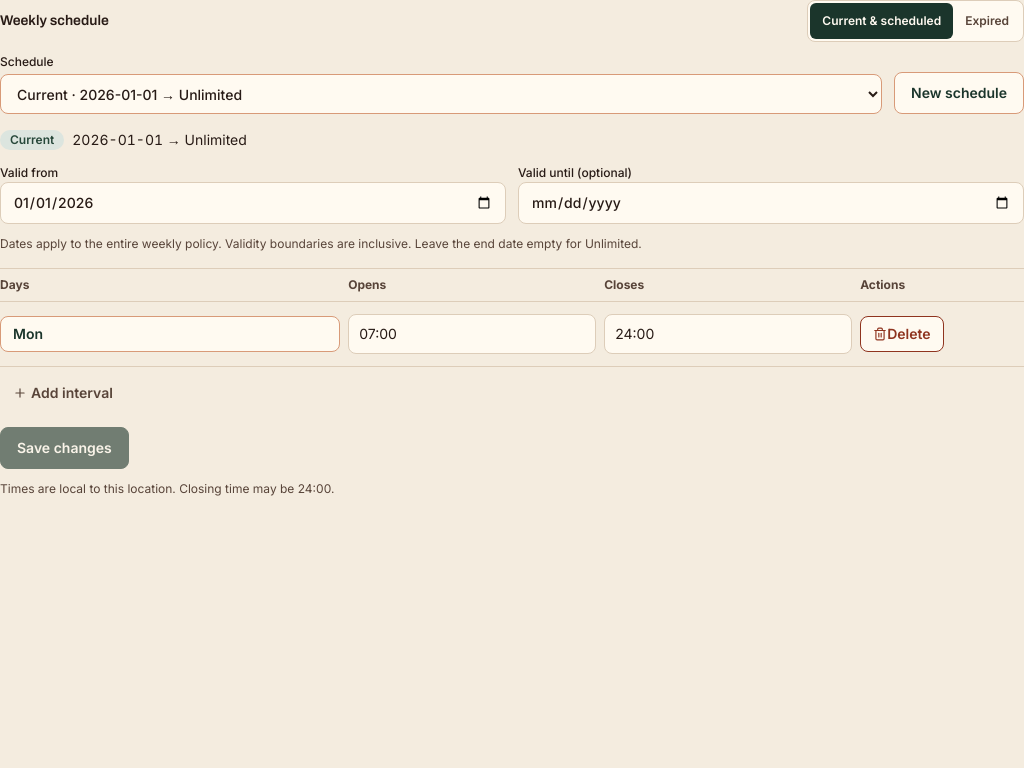
Test: protects dirty drafts when selecting scheduled or expired policies; expired hours are read-only
This screenshot has width=1024, height=768.
Expected: the dropdown labelled "Schedule" shows "Current · 2026-01-01 → Unlimited", [0, 74, 882, 114]
Replace the text in the 1st dropdown named "Opening time" with "08:00": (472, 334) [348, 314, 596, 354]
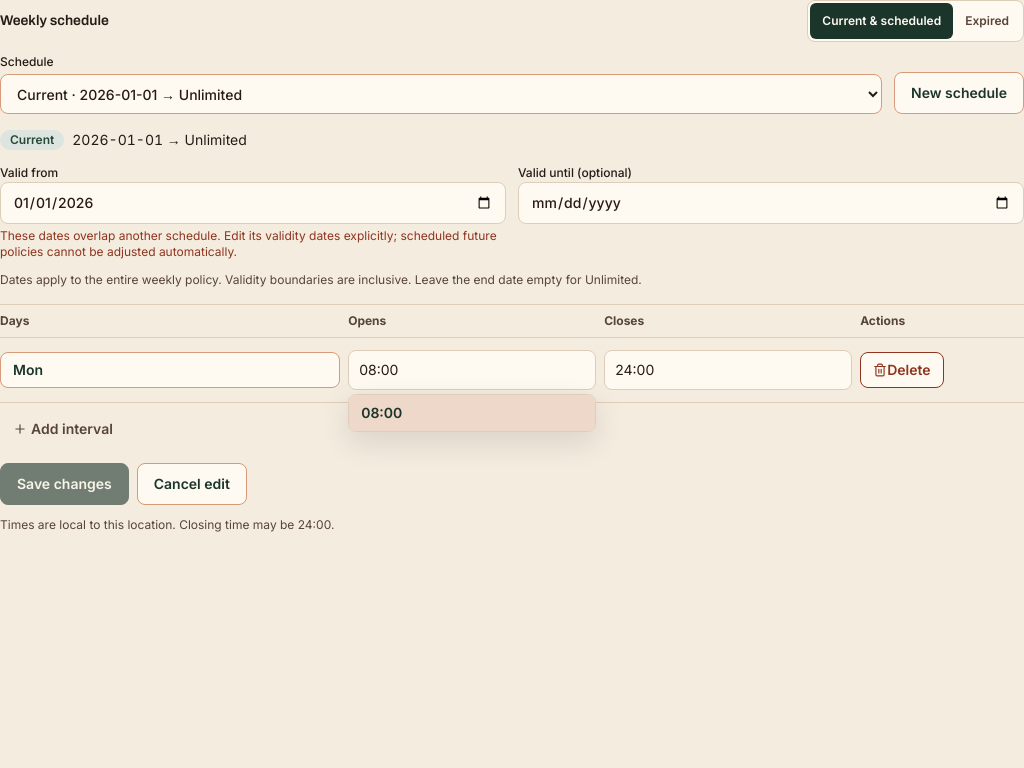
Select "Scheduled · 2027-01-01 → Unlimited" in the dropdown labelled "Schedule": (441, 94) [0, 74, 882, 114]
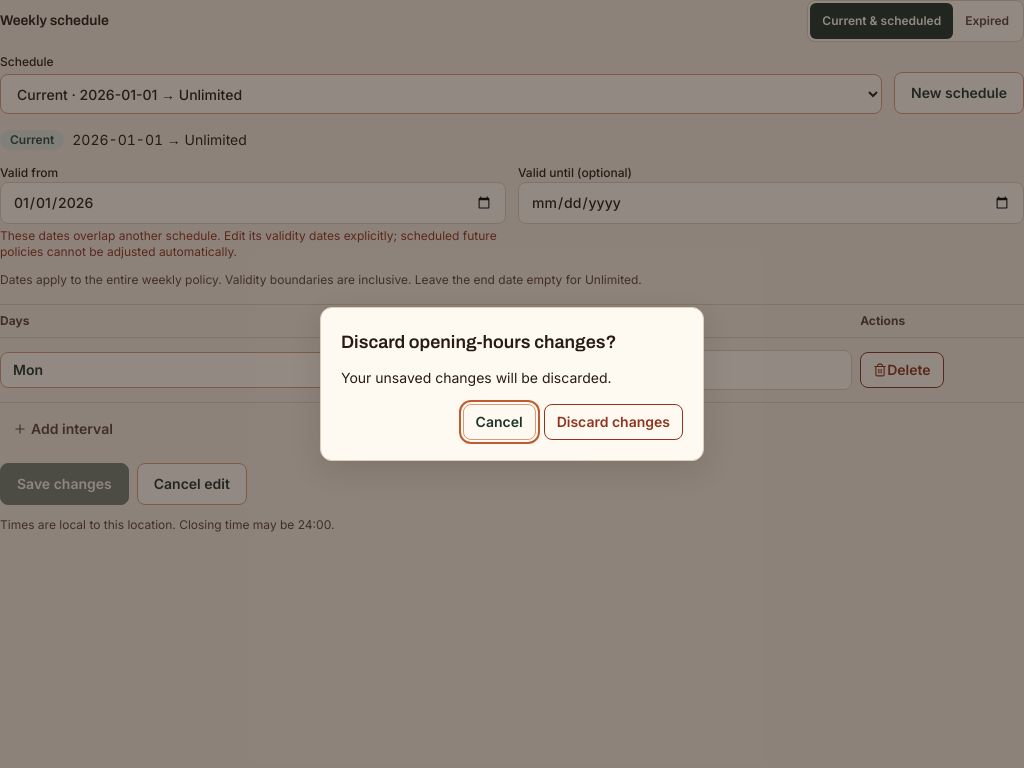
Result: the dialog is shown at [320, 307, 704, 461]
Click the button "Discard changes": (613, 422) [544, 404, 683, 440]
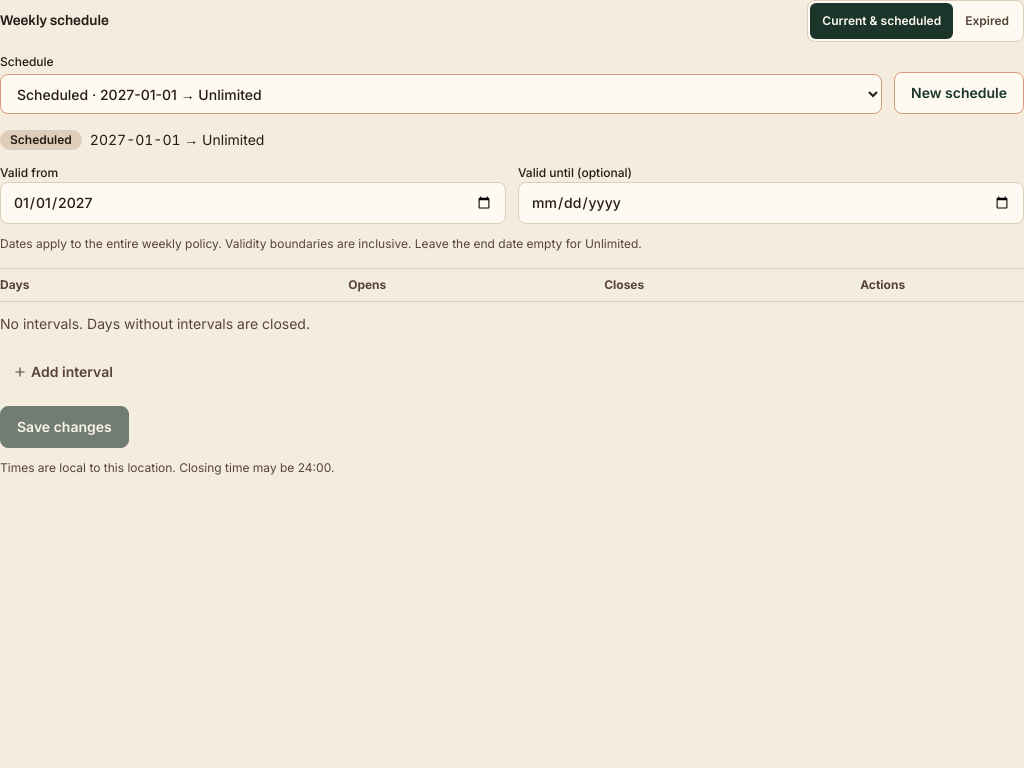
Result: the date field labelled "Valid from" holds "2027-01-01" at [0, 182, 506, 224]
In the date field labelled "Valid until (optional)": (771, 203) [518, 182, 1023, 224], type "2027-12-31"
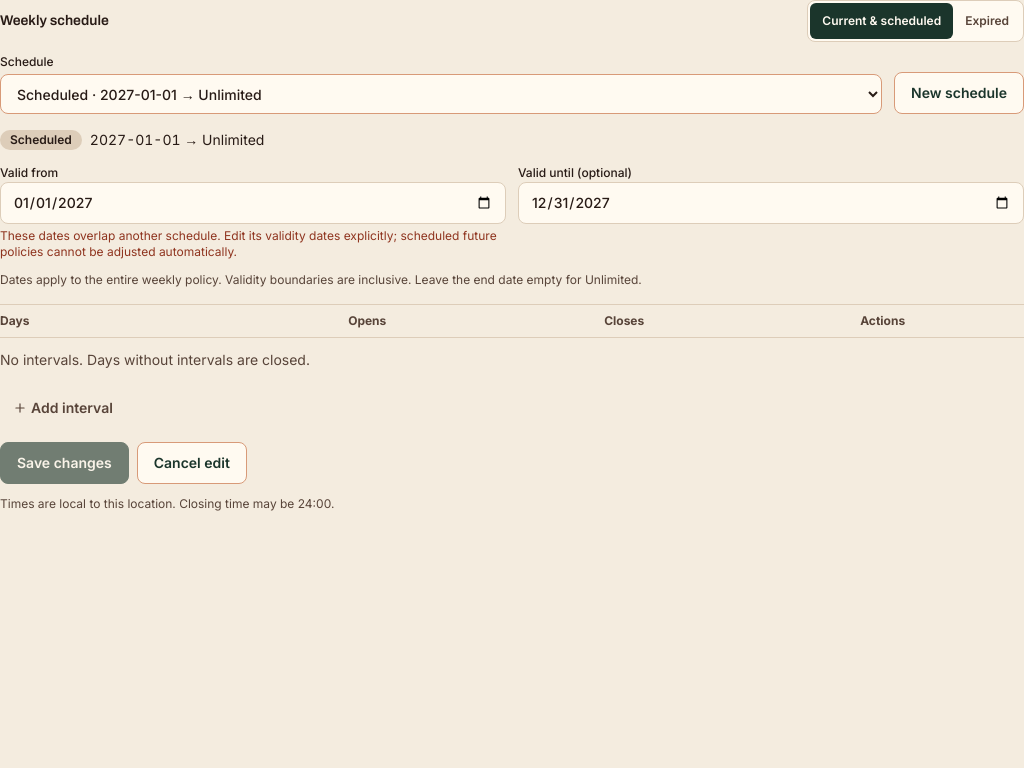
Click the button "Expired": (987, 21) [953, 3, 1021, 39]
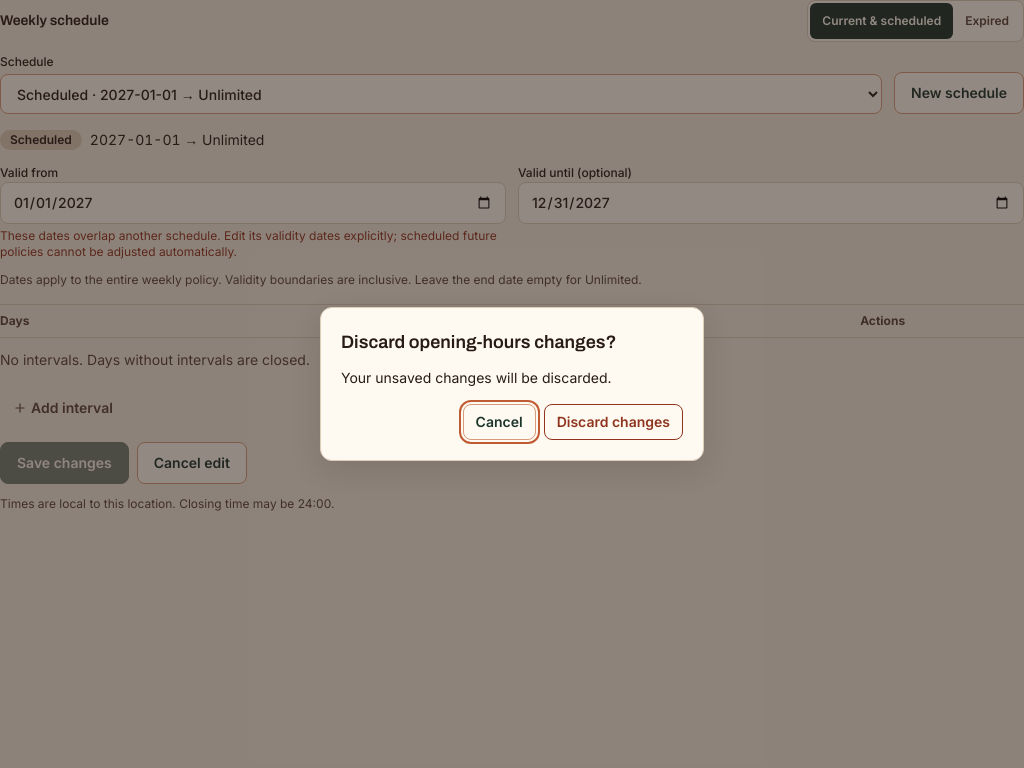
Result: the dialog is shown at [320, 307, 704, 461]
Click the button "Discard changes": (613, 422) [544, 404, 683, 440]
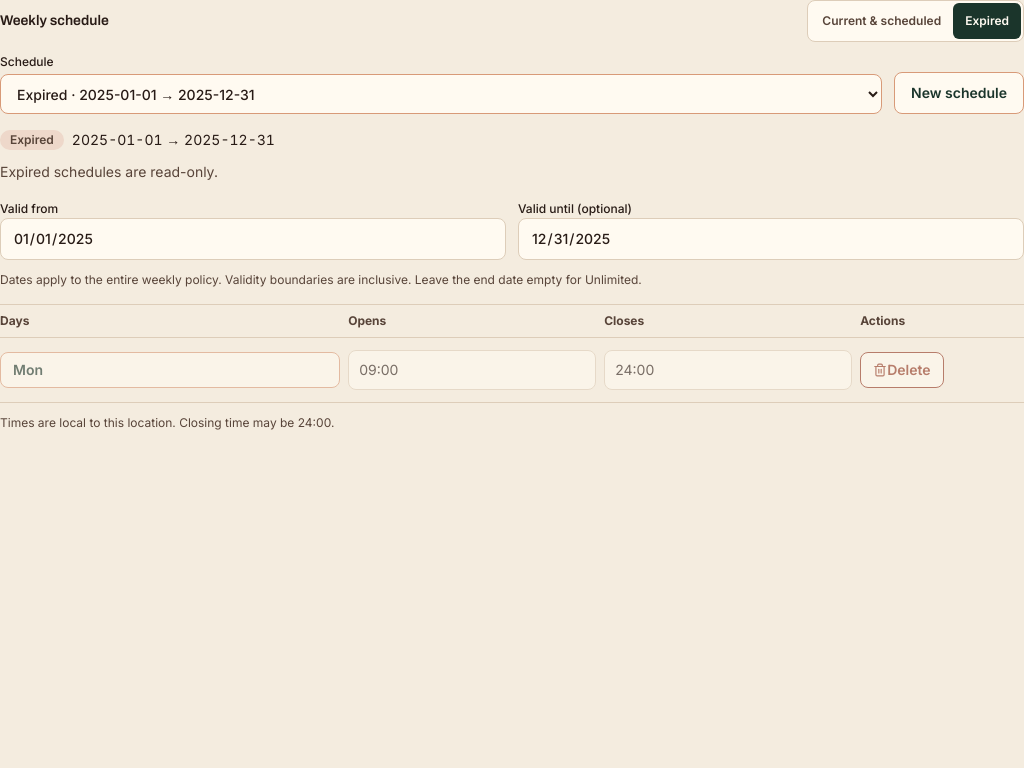
Result: the 1st dropdown named "Opening time" is disabled at [348, 350, 596, 390]
Result: the button "Save changes" is gone
